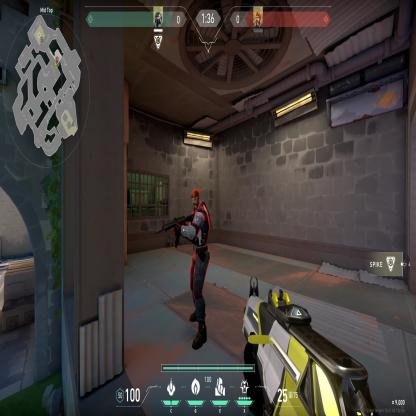enemy: (172, 184, 214, 356)
